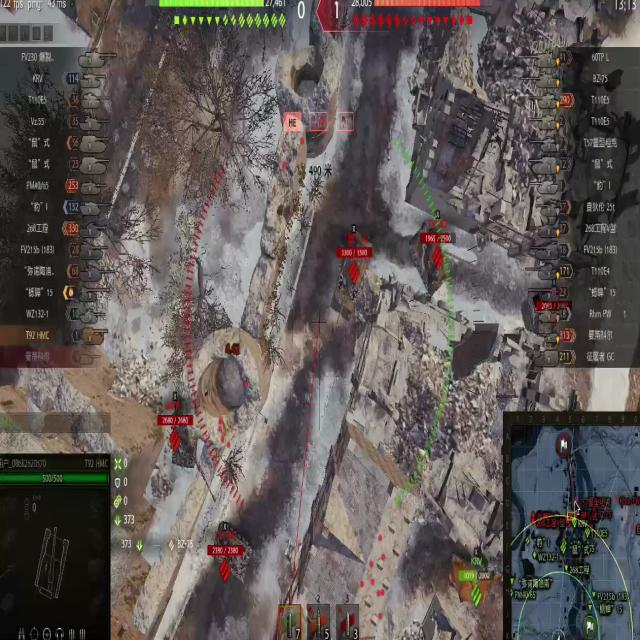tank: (406, 216, 454, 300), (156, 401, 200, 476), (206, 522, 256, 587), (329, 241, 371, 317)
